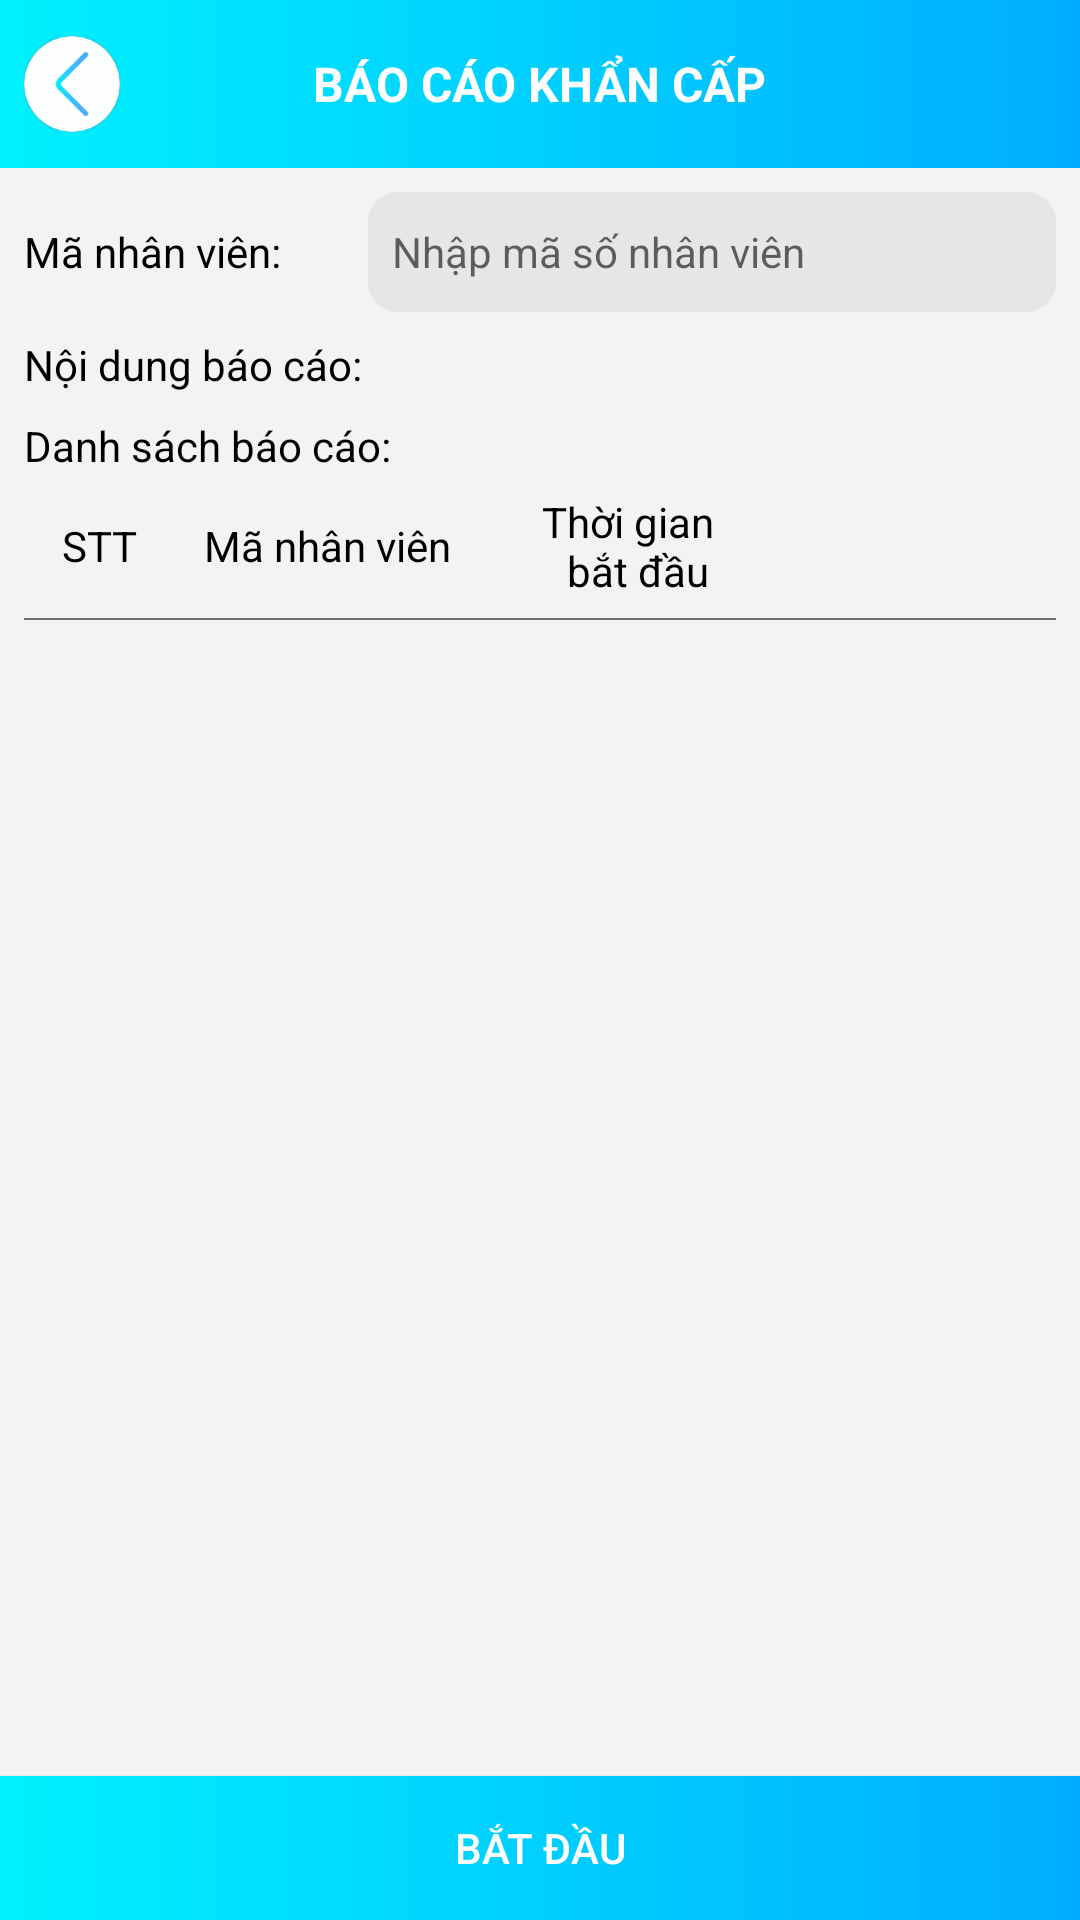

Screen size 1080x1920. Icon name, then its box in pixels as (x1, y1, x2, y2):
back: (24, 36, 120, 132)
